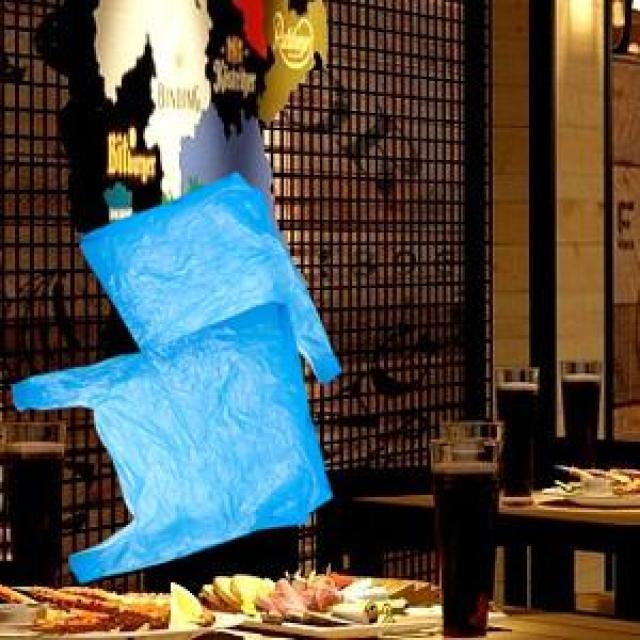waste: (14, 174, 340, 582)
